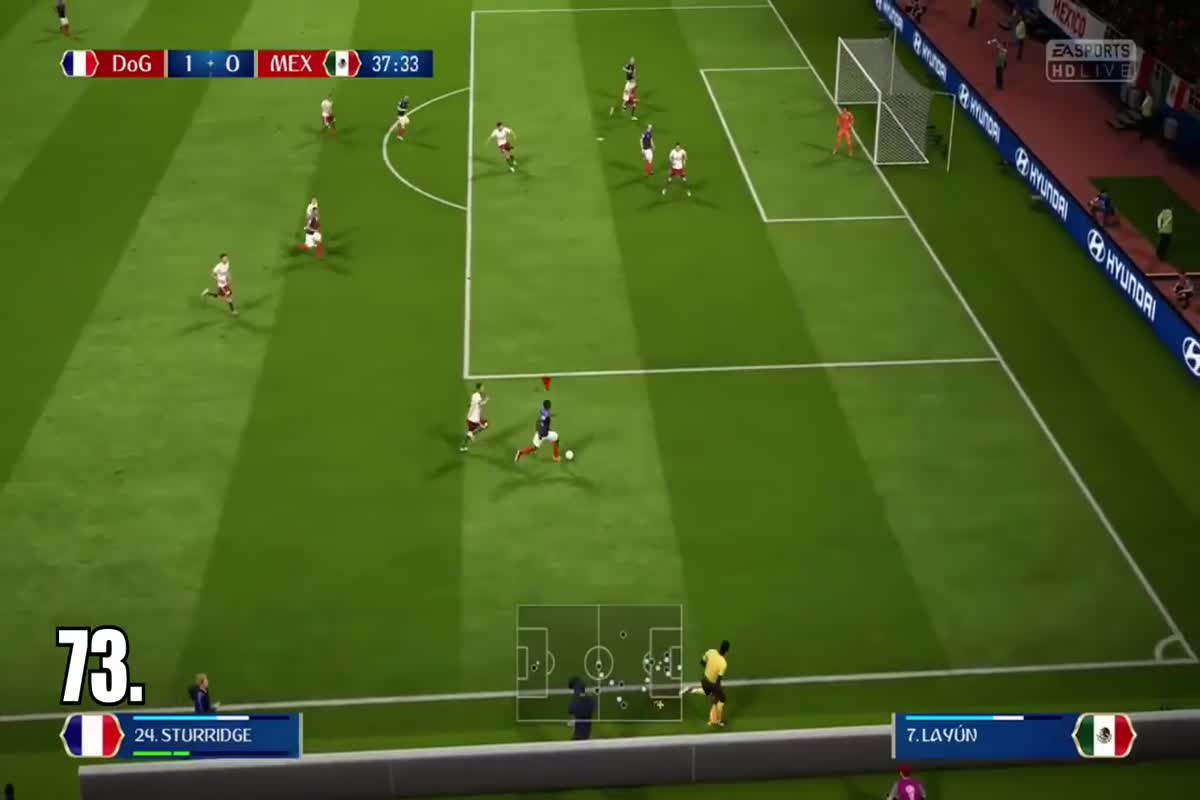ball: (560, 445, 582, 463)
